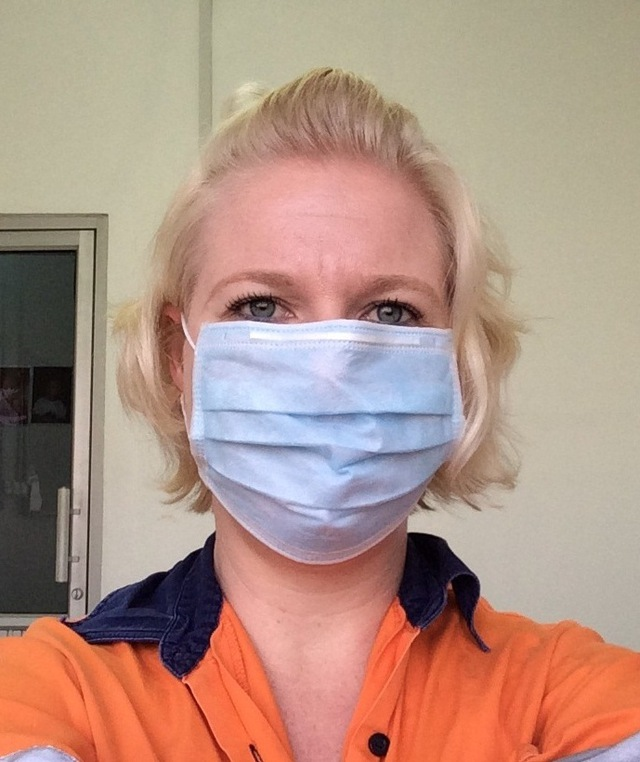mask: (201, 333, 451, 549)
